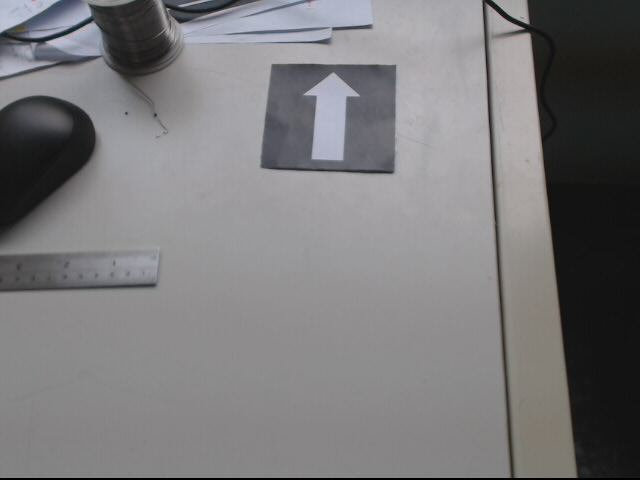straight: (261, 63, 398, 173)
